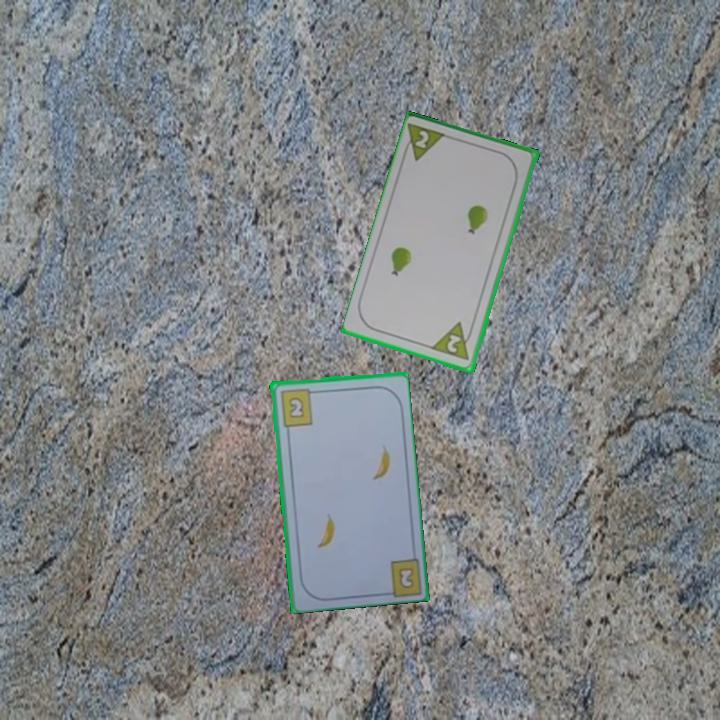2b: (277, 385, 319, 429), (397, 566, 414, 589)
2p: (398, 120, 451, 165), (430, 319, 477, 364)
